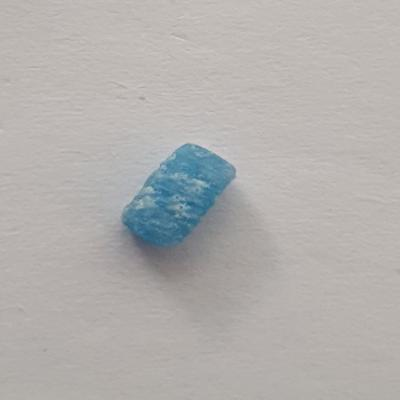plastic: (119, 136, 240, 261)
